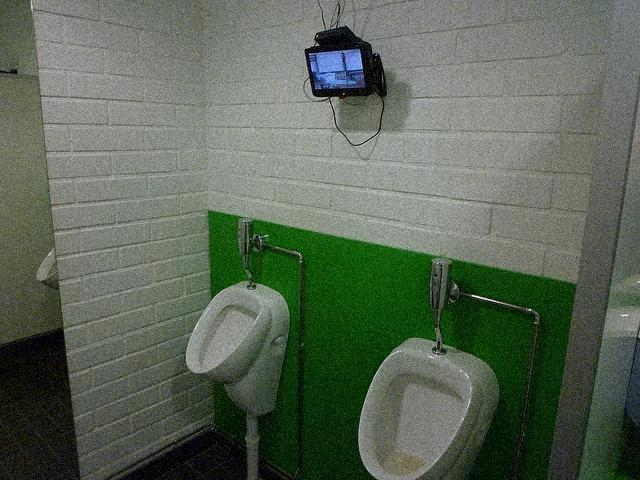Sanitario: (168, 255, 295, 437)
